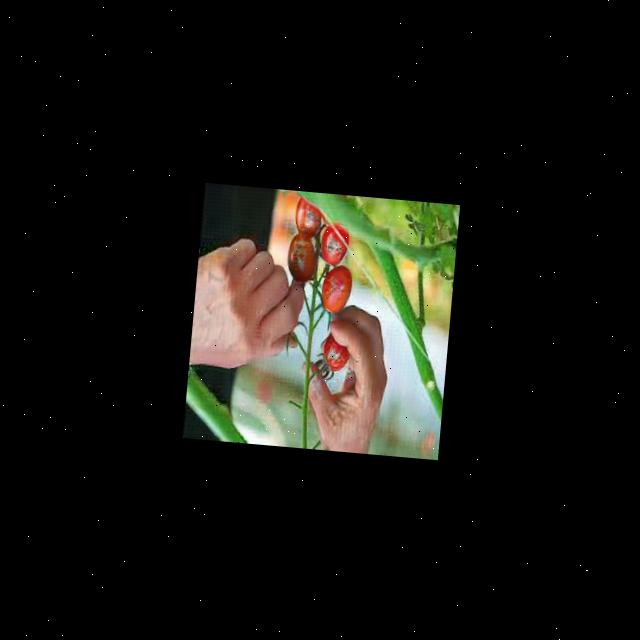tomato: (281, 230, 319, 282), (316, 328, 354, 376), (319, 268, 356, 316), (290, 197, 322, 236), (319, 225, 349, 265)
